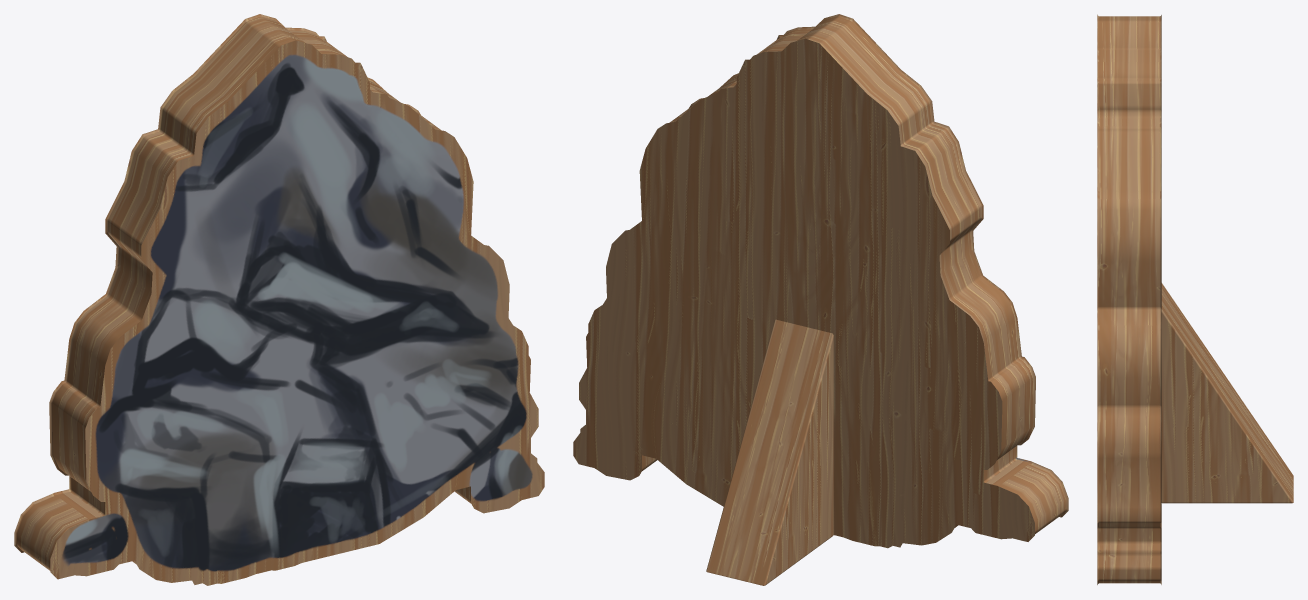
The model's file is rock.glb.
The picture shows the model from 3 angles, left to right: view 1: azimuth 30°, elevation 25°; view 2: azimuth 150°, elevation 25°; view 3: azimuth 270°, elevation 25°; orthographic projection. The views are drawn at different scales.
Parts seen in each view (by area): view 1: rock_Block; view 2: rock_Block, rock_RearBrace; view 3: rock_Block, rock_RearBrace.
Part boxes in pixels (bbox=[...]): rock_Block: bbox=[14, 14, 544, 585]; rock_Block: bbox=[573, 14, 1068, 548]; rock_RearBrace: bbox=[706, 319, 833, 585]; rock_Block: bbox=[1097, 14, 1161, 584]; rock_RearBrace: bbox=[1161, 283, 1293, 503].
Size of the model in its own units: 1.19 by 1.21 by 0.4567.
Materials: 1 (1 with a texture image).
